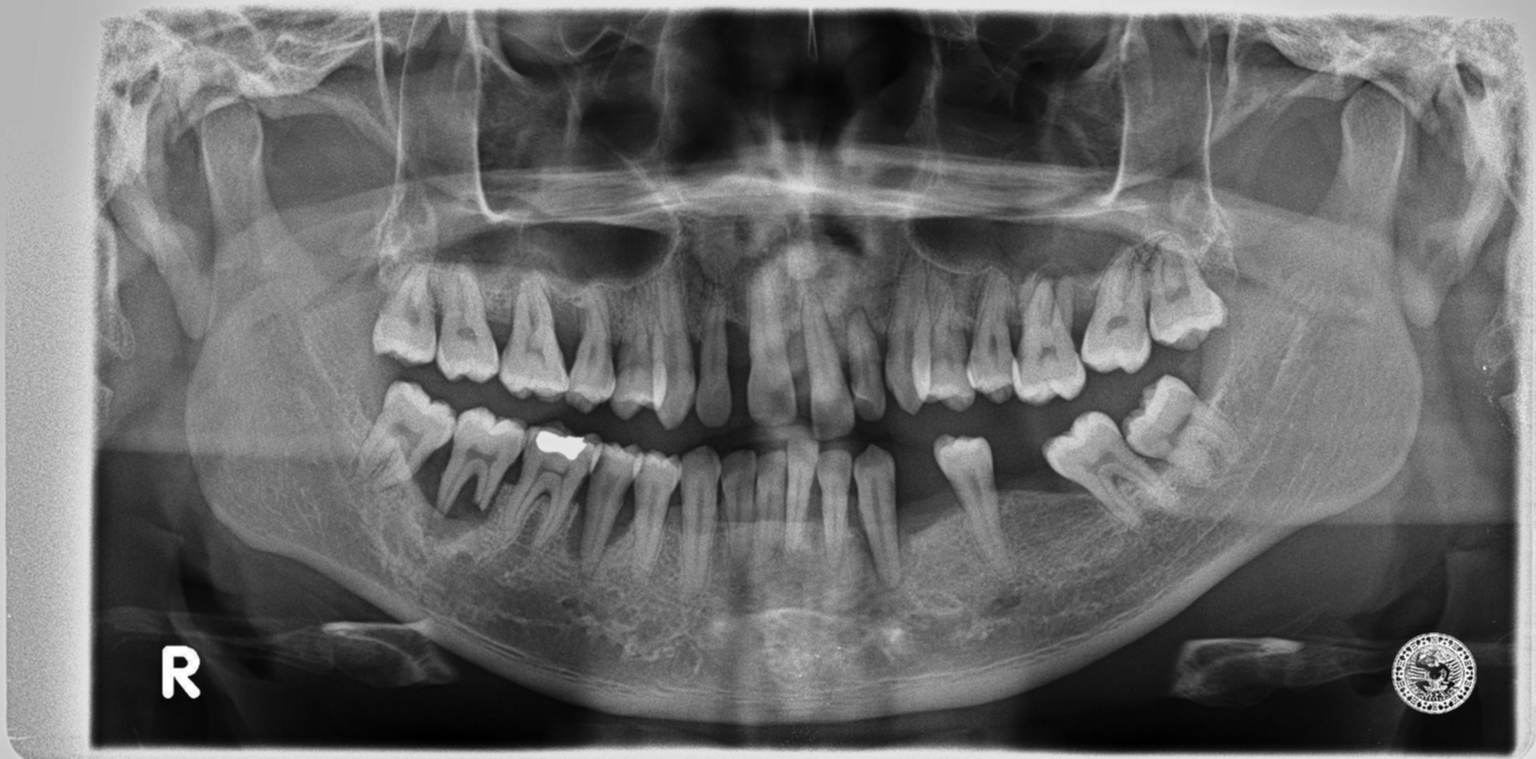Individual Tooth: (1123, 376, 1244, 502), (1044, 413, 1175, 528), (494, 425, 601, 544), (934, 435, 1011, 576), (361, 382, 456, 484), (435, 408, 525, 512), (1015, 277, 1085, 404), (911, 274, 975, 409), (748, 257, 797, 426), (501, 274, 567, 398), (1081, 259, 1150, 372), (1149, 253, 1225, 348), (581, 444, 641, 562), (436, 268, 498, 382), (804, 300, 854, 439), (629, 452, 681, 582), (854, 445, 901, 586), (885, 265, 929, 413), (967, 271, 1016, 401), (566, 286, 616, 411), (679, 446, 721, 593), (653, 274, 693, 428), (374, 266, 436, 363), (609, 310, 664, 418), (695, 292, 731, 425), (720, 451, 755, 585), (754, 446, 787, 576), (785, 425, 819, 551), (847, 308, 885, 420), (817, 445, 852, 551)
